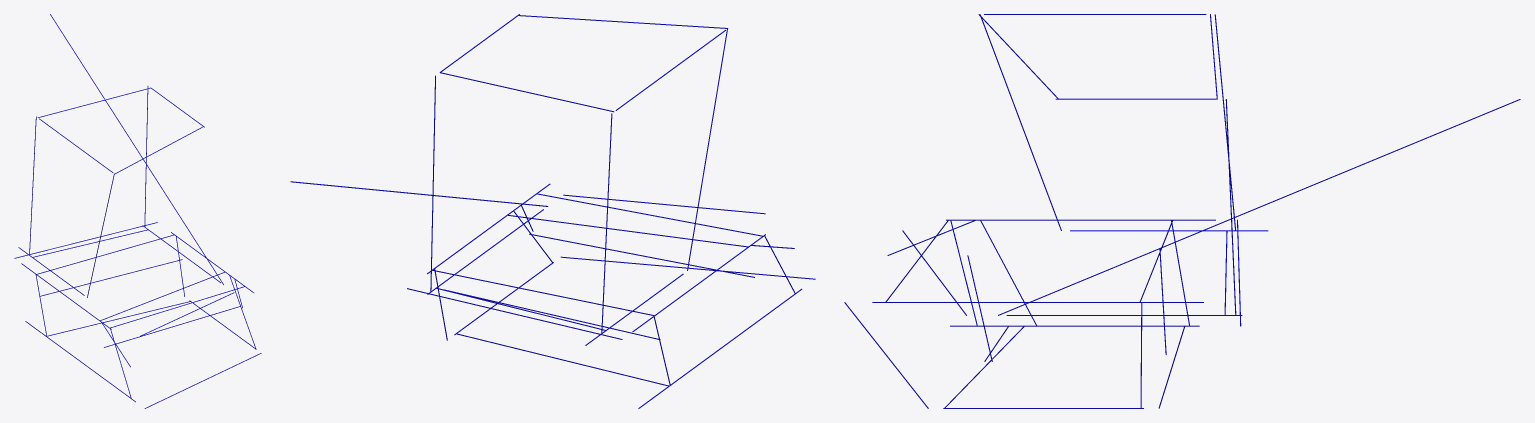
File: corrected_3d_strokes.glb
The picture shows the model from 3 angles, left to right: view 1: azimuth 30°, elevation 25°; view 2: azimuth 150°, elevation 25°; view 3: azimuth 270°, elevation 25°; orthographic projection. The views are drawn at different scales.
Parts seen in each view (by area): view 1: world; view 2: world; view 3: world.
Boxes of the visible parts, box(x1,y1,x2,y2) form: world: box(14, 14, 261, 408); world: box(290, 14, 815, 408); world: box(844, 14, 1520, 408).
Bounding box in the file's own units: 9.17 × 12.04 × 24.64.
